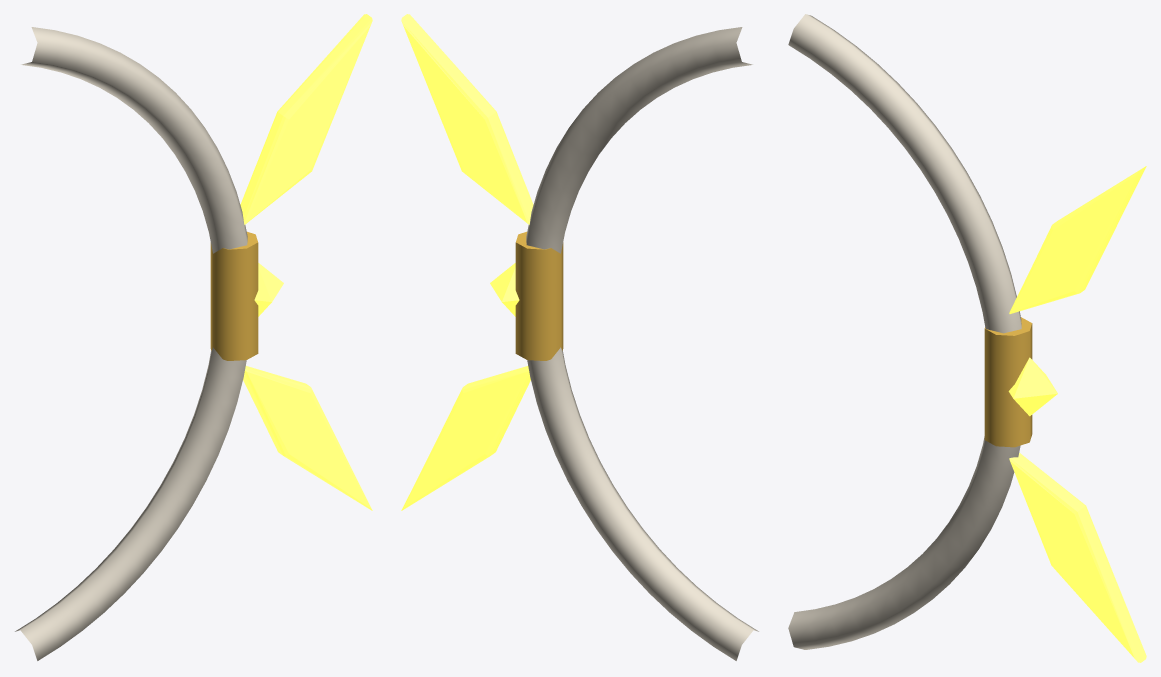
Rendered from bow_f3_e79fa000.glb.
The picture shows the model from 3 angles, left to right: view 1: azimuth 30°, elevation 25°; view 2: azimuth 150°, elevation 25°; view 3: azimuth 330°, elevation 25°; orthographic projection.
Visible parts, largest first — view 1: m0_ow80_, m2_gm130_, m1_gm130_, m3_ow80_, m4_gm160_; view 2: m0_ow80_, m2_gm130_, m1_gm130_, m3_ow80_, m4_gm160_; view 3: m0_ow80_, m1_gm130_, m2_gm130_, m3_ow80_, m4_gm160_.
Part boxes in pixels (x1,y1,x2,y2): m0_ow80_: [15, 27, 247, 660]; m2_gm130_: [240, 14, 372, 224]; m1_gm130_: [243, 366, 372, 510]; m3_ow80_: [210, 231, 258, 360]; m4_gm160_: [254, 263, 283, 316]; m0_ow80_: [526, 27, 758, 660]; m2_gm130_: [401, 14, 533, 224]; m1_gm130_: [401, 366, 530, 510]; m3_ow80_: [515, 231, 563, 360]; m4_gm160_: [490, 263, 519, 316]; m0_ow80_: [788, 14, 1021, 649]; m1_gm130_: [1009, 453, 1146, 662]; m2_gm130_: [1009, 166, 1146, 313]; m3_ow80_: [984, 317, 1032, 447]; m4_gm160_: [1008, 357, 1057, 416].
Size of the model in its own units: 0.9831 by 1.71 by 0.16.
